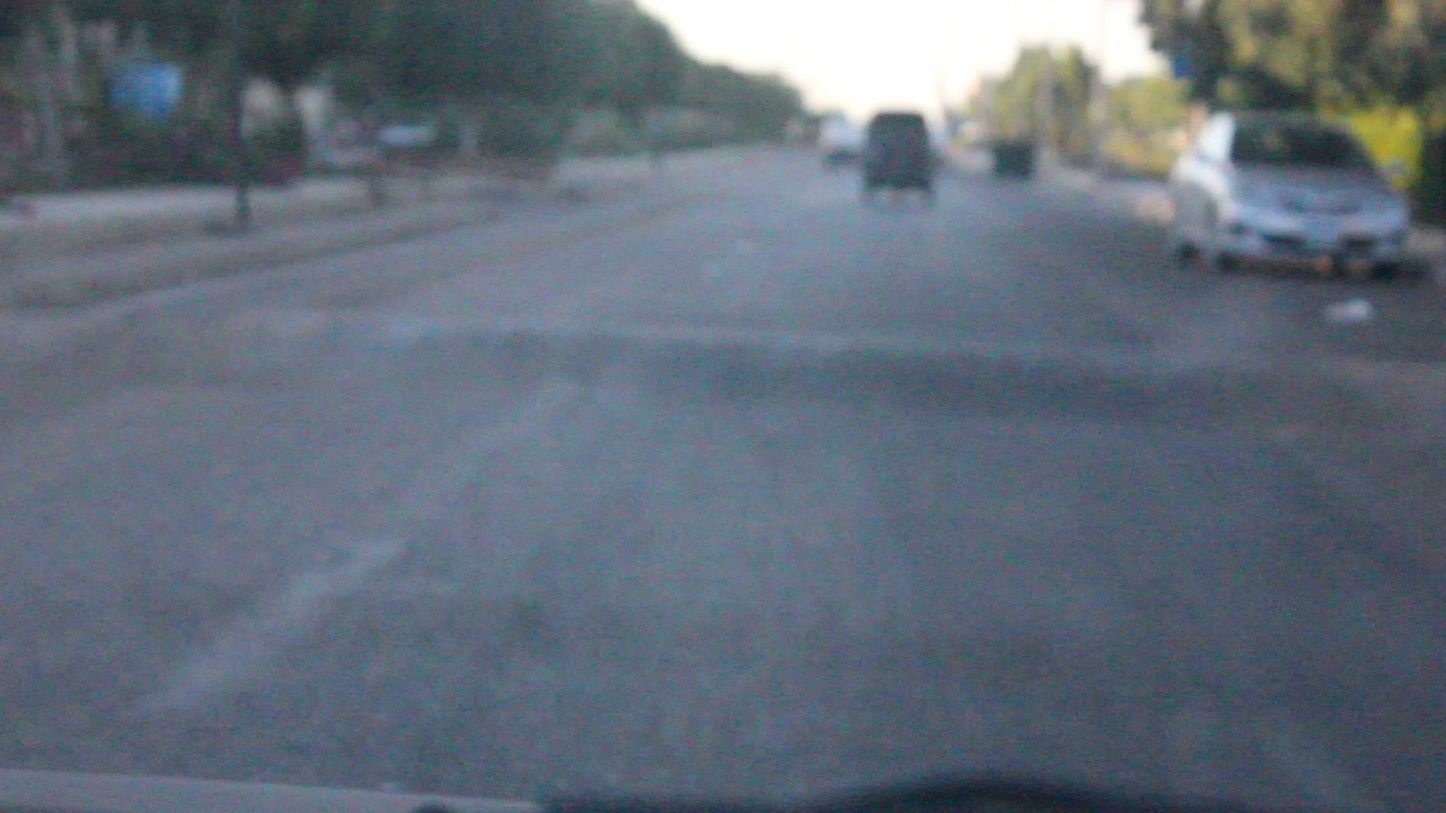Bump: (136, 299, 1446, 467)
